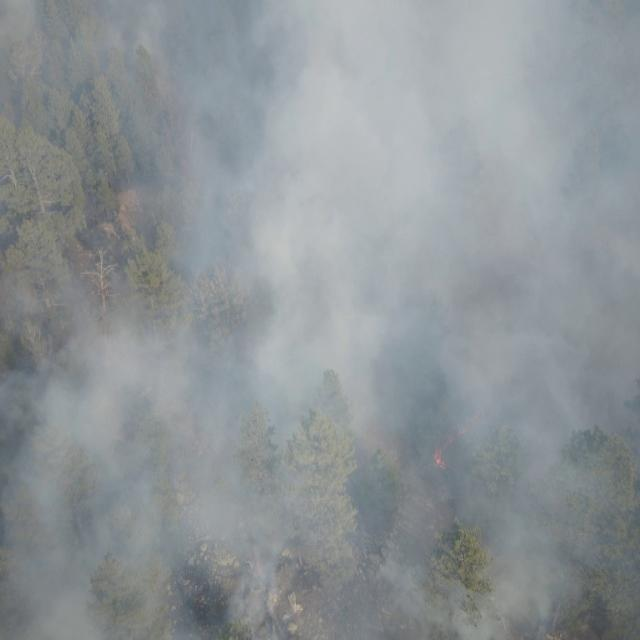fire: (446, 408, 486, 444), (430, 446, 448, 469)
smoke: (0, 0, 640, 640)
